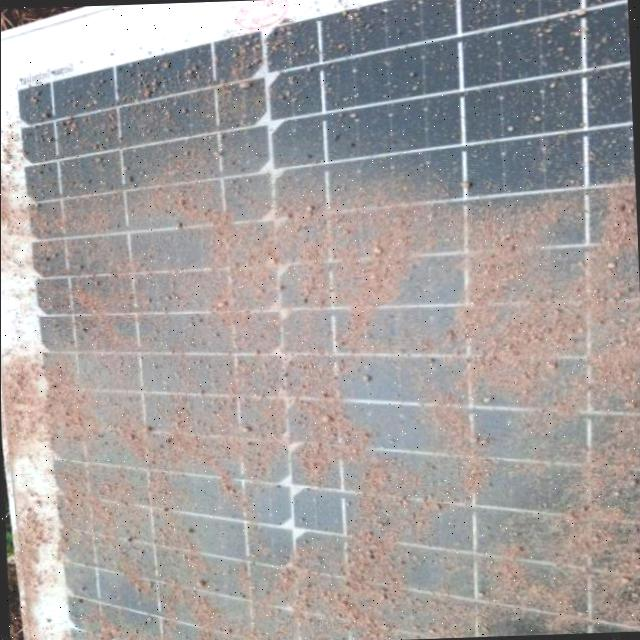Surface Contaminant: (24, 45, 547, 640)
